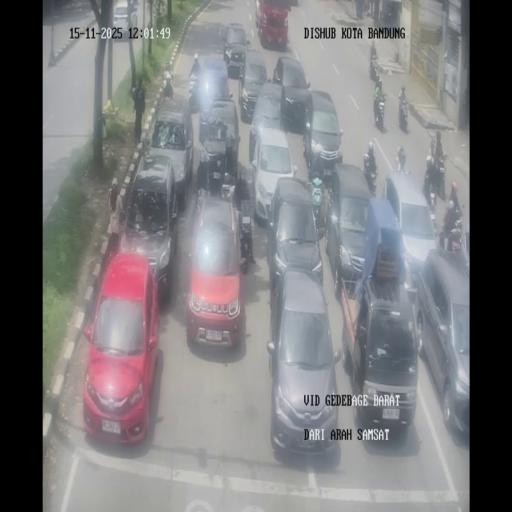car: (82, 254, 160, 446), (267, 271, 340, 459), (344, 266, 419, 439), (414, 248, 470, 442), (185, 190, 247, 350), (381, 171, 439, 293), (328, 164, 374, 292), (146, 98, 194, 200), (252, 125, 298, 226), (302, 90, 342, 181), (192, 55, 231, 123), (240, 50, 270, 123), (254, 1, 289, 49), (222, 22, 249, 74), (272, 55, 308, 93), (112, 0, 136, 41)
motorcycle: (204, 146, 230, 198), (439, 214, 463, 252), (310, 180, 326, 236), (239, 217, 254, 268), (434, 152, 447, 199), (363, 159, 377, 196), (426, 186, 438, 229), (374, 94, 386, 132), (188, 72, 199, 111), (398, 96, 409, 132), (395, 153, 411, 177), (162, 78, 174, 101), (369, 55, 379, 82), (385, 4, 393, 23), (362, 0, 370, 17)
